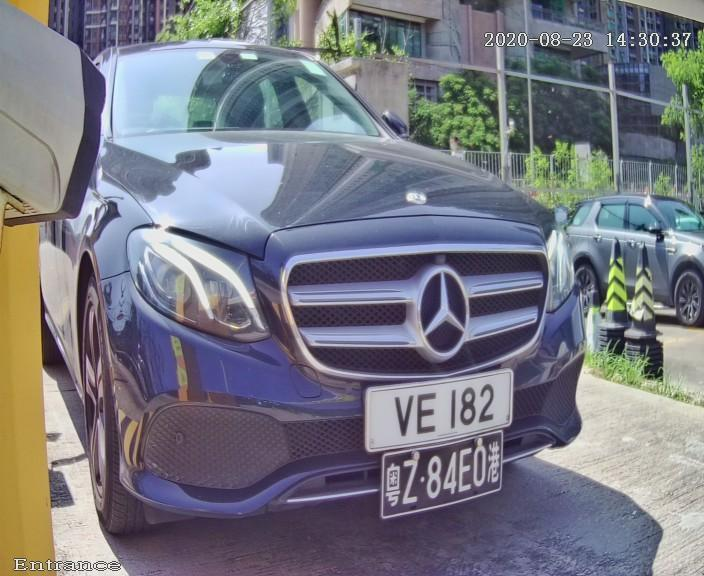Car: (10, 3, 642, 576)
License Plate: (312, 330, 557, 470)
